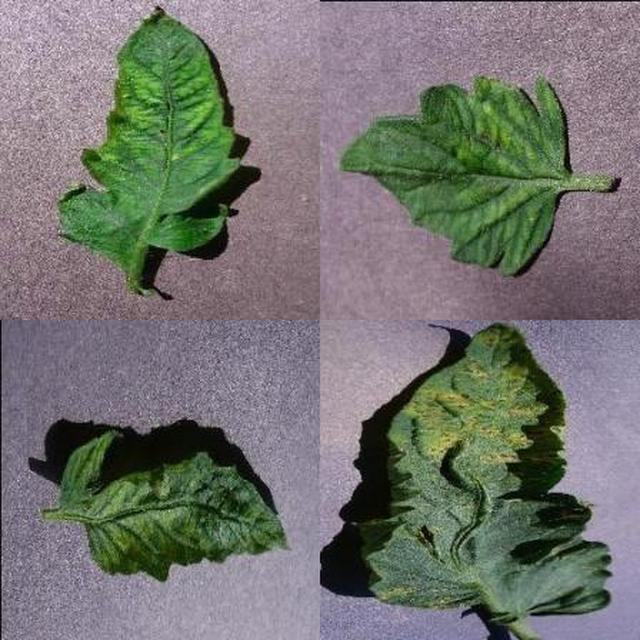Mosaic Virus Leaf: (212, 196, 640, 640)
